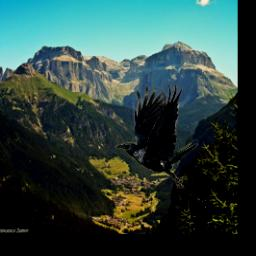Crow: (115, 82, 199, 190)
